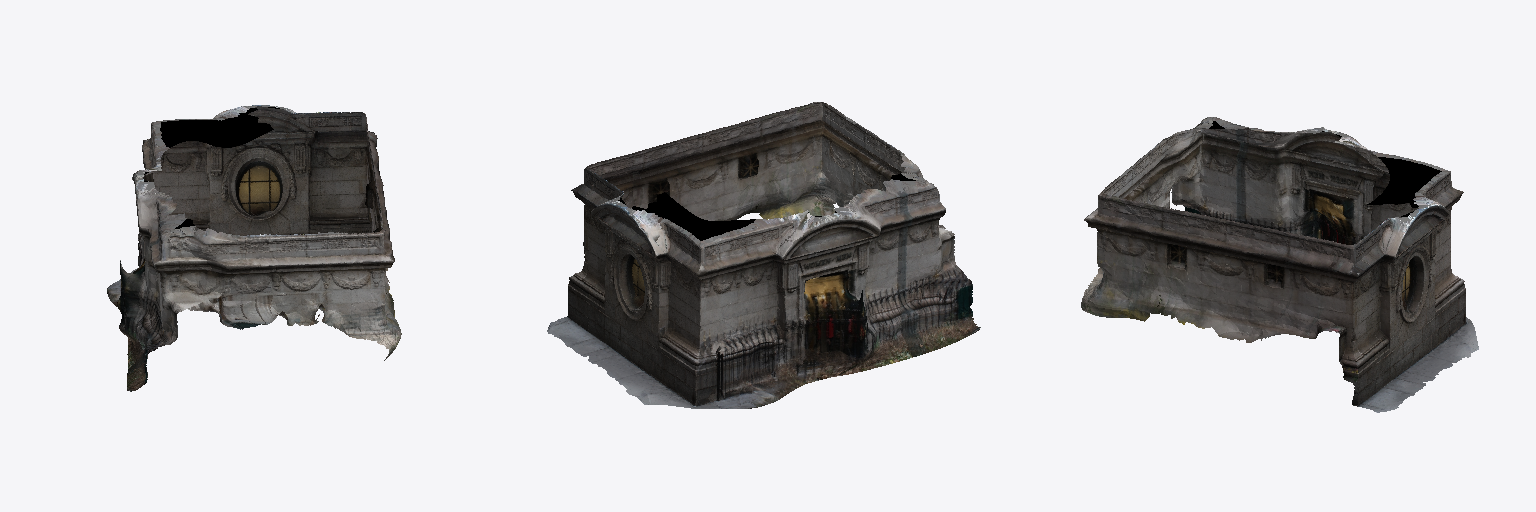
3 views of the same model, side by side, from view 1: azimuth 30°, elevation 25°; view 2: azimuth 150°, elevation 25°; view 3: azimuth 270°, elevation 25° (orthographic).
Size of the model in its own units: 39.87 by 18.34 by 40.52.
Materials: 1 (1 with a texture image).